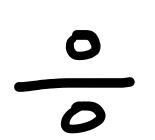div: (14, 30, 135, 133)
